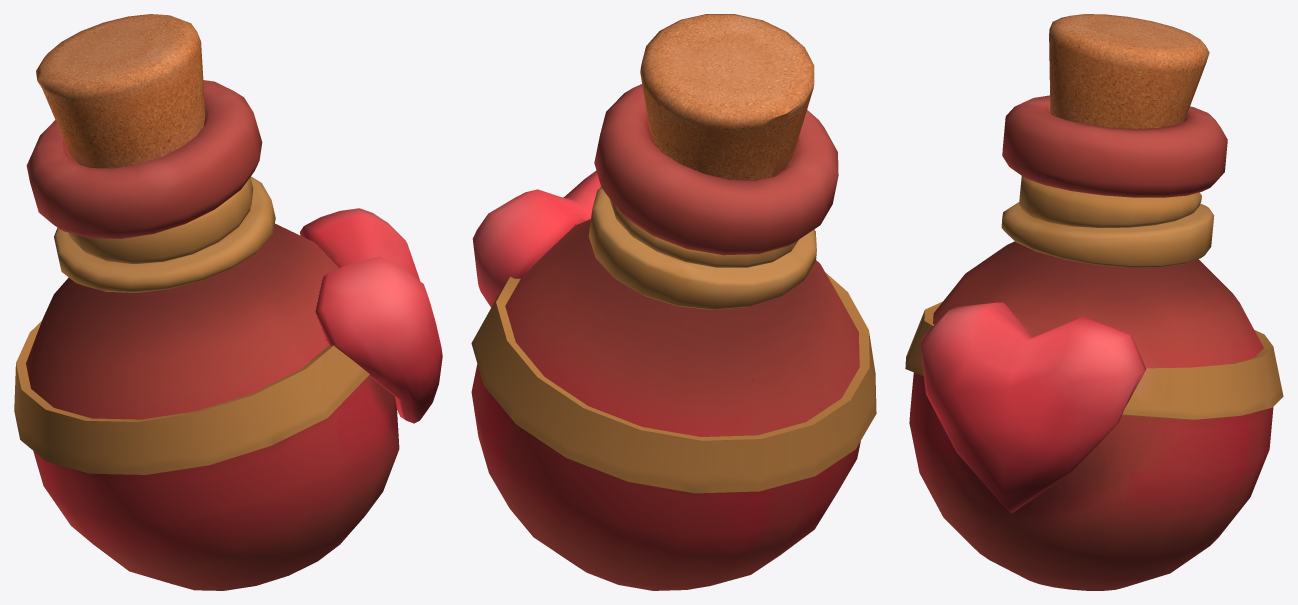
The model's file is health.fbx.
3 renders of one model, left to right at view 1: azimuth 30°, elevation 25°; view 2: azimuth 150°, elevation 25°; view 3: azimuth 270°, elevation 25°, orthographic. The views are drawn at different scales.
Parts seen in each view (by area): view 1: Sphere; view 2: Sphere; view 3: Sphere.
Part boxes in pixels (box(x1,y1,x2,y2)): Sphere: box(14, 14, 442, 590); Sphere: box(471, 14, 876, 590); Sphere: box(905, 14, 1283, 590).
Bounding box in the file's own units: 3671 × 5309 × 3488.
